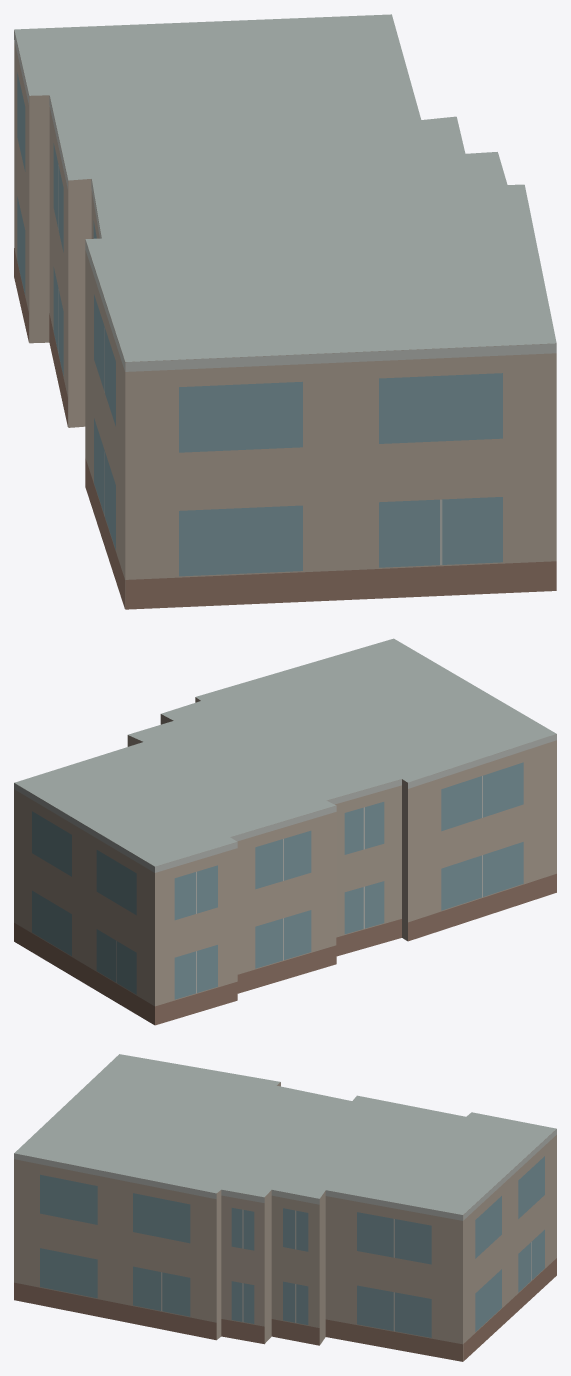
File: survey-upis-32672319.glb
3 views of the same model, one above another, from view 1: azimuth 30°, elevation 25°; view 2: azimuth 150°, elevation 25°; view 3: azimuth 270°, elevation 25° (orthographic). The views are drawn at different scales.
Visible parts, largest first — view 1: survey-upis-32672319.tmp; view 2: survey-upis-32672319.tmp; view 3: survey-upis-32672319.tmp.
Part boxes in pixels (x1,y1,x2,y2): survey-upis-32672319.tmp: (14,14,556,609); survey-upis-32672319.tmp: (14,638,556,1025); survey-upis-32672319.tmp: (14,1054,556,1361).
Bounding box in the file's own units: 14.36 × 6.1 × 20.45.
